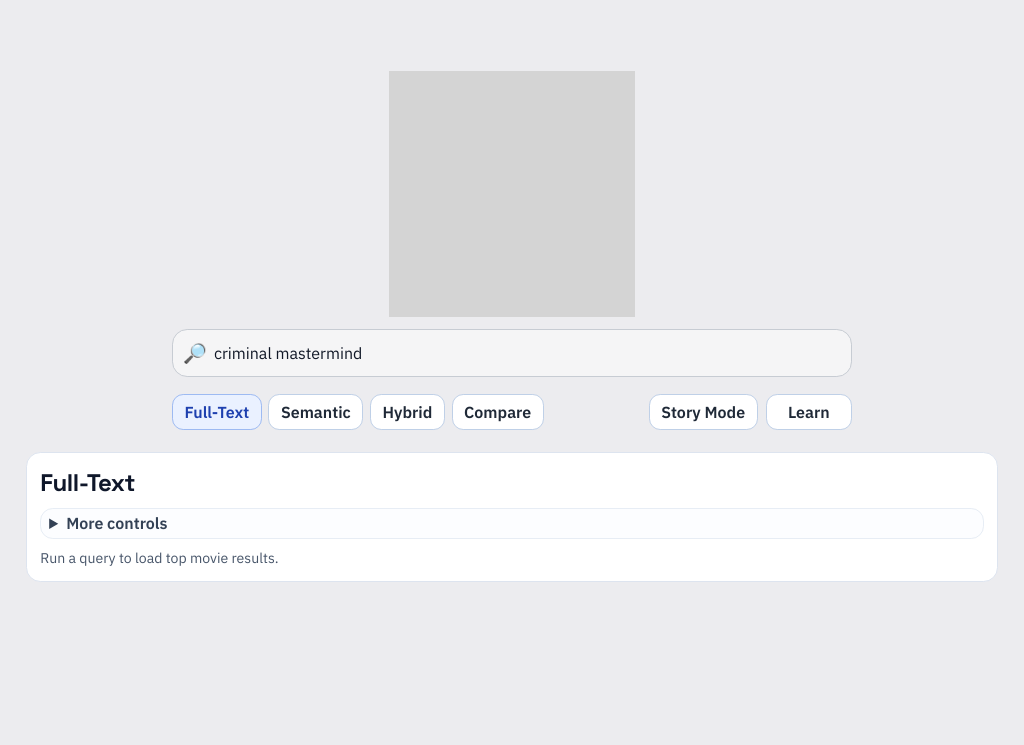
App › walks through guided story mode with fixed steps and code stops
Click the button "Story Mode" at coordinates (703, 412), box [649, 394, 758, 430]
(page scrolled)
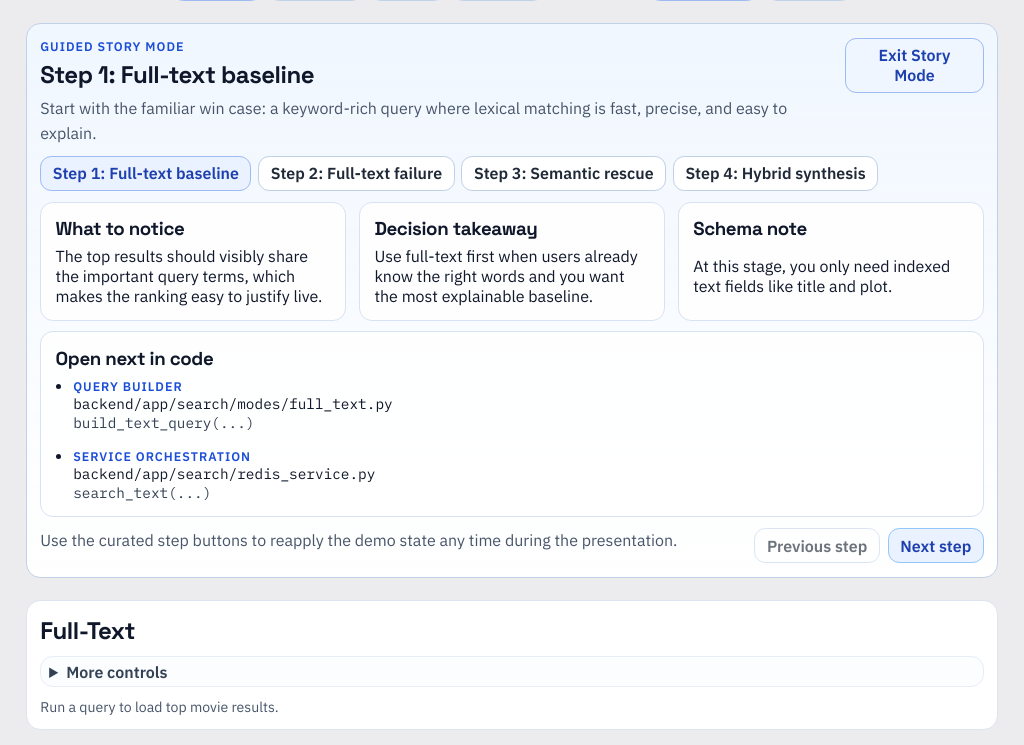
Now the heading "Step 1: Full-text baseline" is shown, box [40, 59, 314, 90]
Now the heading "Open next in code" is shown, box [56, 347, 213, 370]
Now the text "build_text_query(...)" is shown, box [73, 413, 254, 432]
Click the button "Next step" at coordinates (936, 546), box [888, 528, 984, 563]
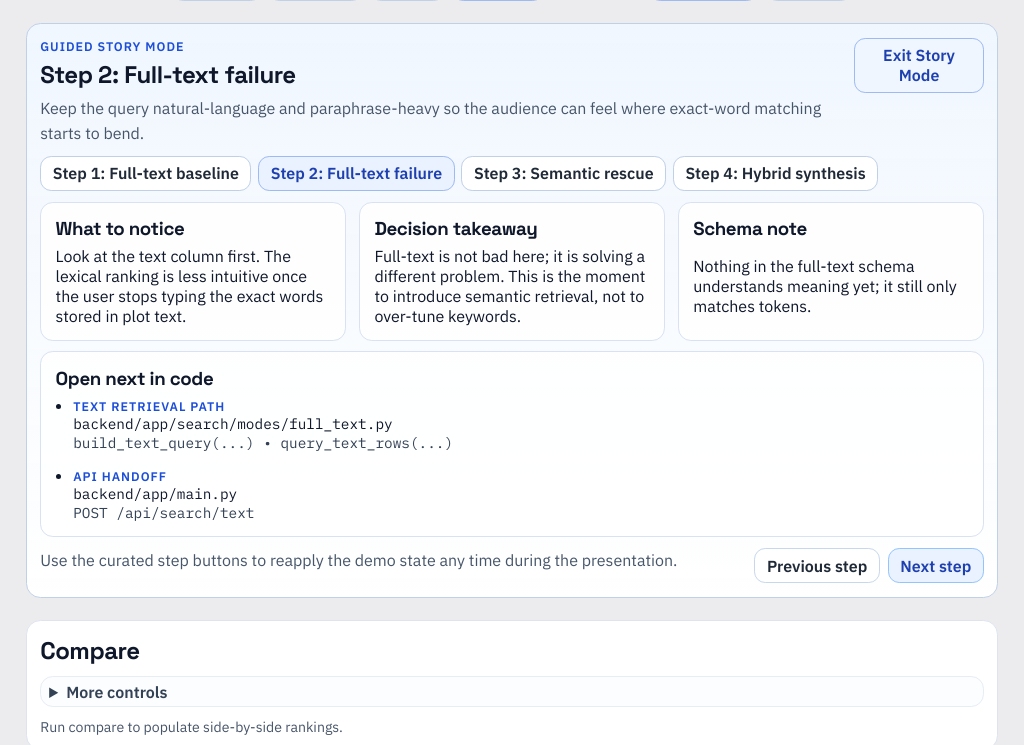
Now the heading "Step 2: Full-text failure" is shown, box [40, 59, 296, 90]
Click the button "Next step" at coordinates (936, 566), box [888, 548, 984, 583]
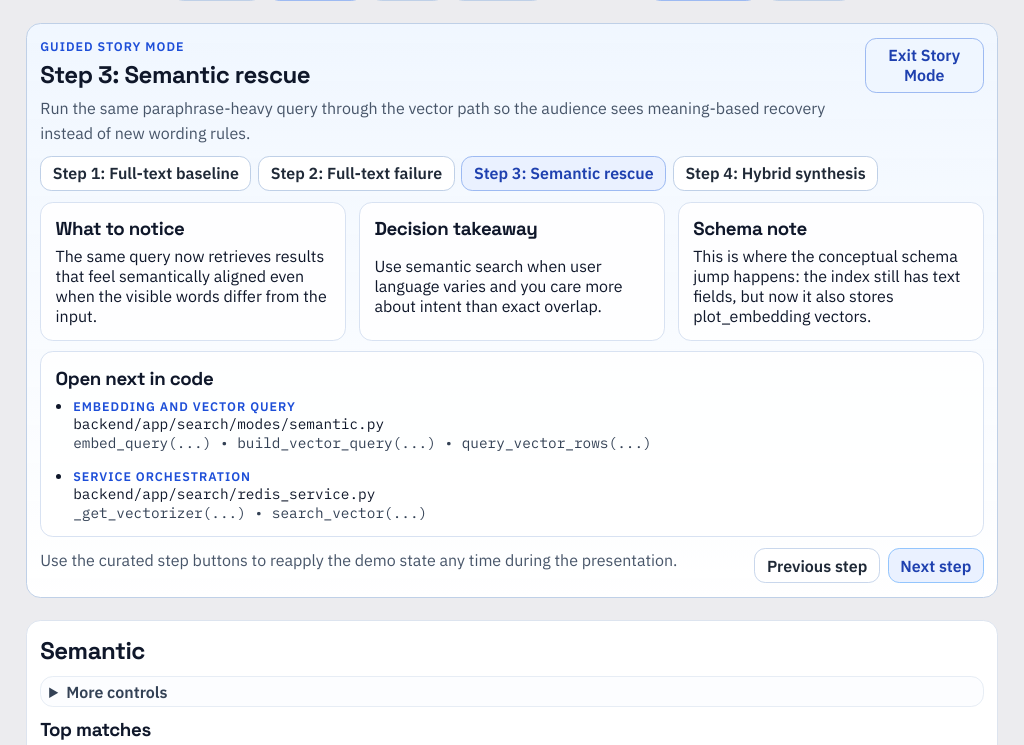
Now the heading "Step 3: Semantic rescue" is shown, box [40, 59, 310, 90]
Now the text "embed_query" is shown, box [73, 433, 652, 452]
Click the button "Next step" at coordinates (936, 566), box [888, 548, 984, 583]
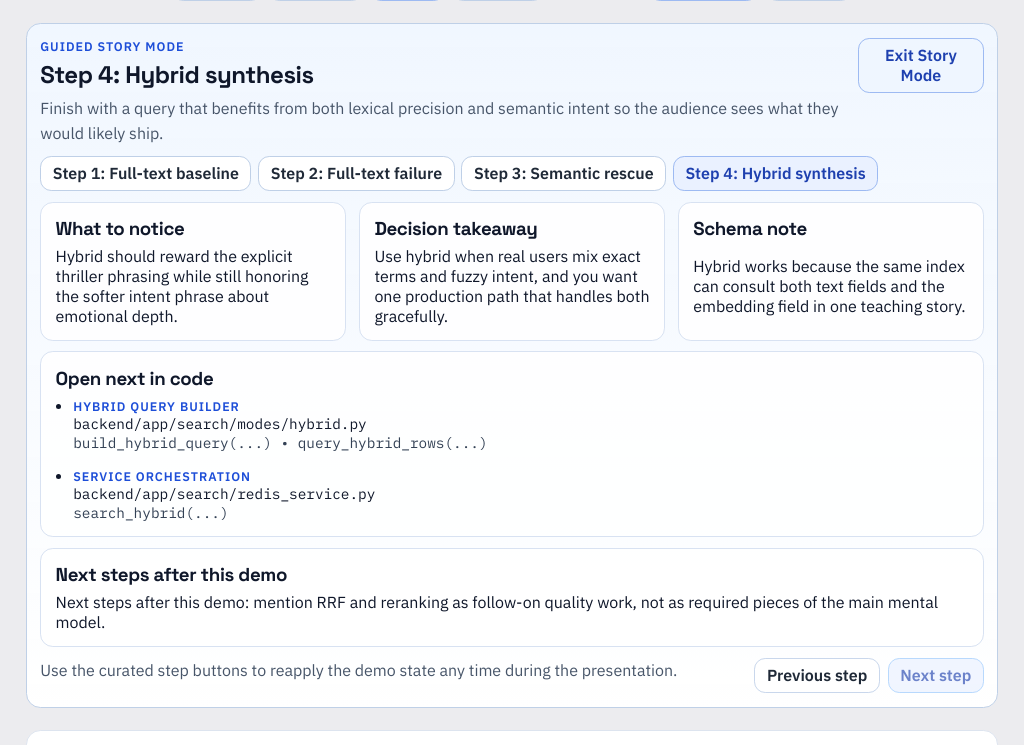
Now the heading "Step 4: Hybrid synthesis" is shown, box [40, 59, 314, 90]
Now the text "build_hybrid_query(...) • query_hybrid_rows(...)" is shown, box [73, 433, 488, 452]
Now the heading "Next steps after this demo" is shown, box [56, 563, 287, 586]
